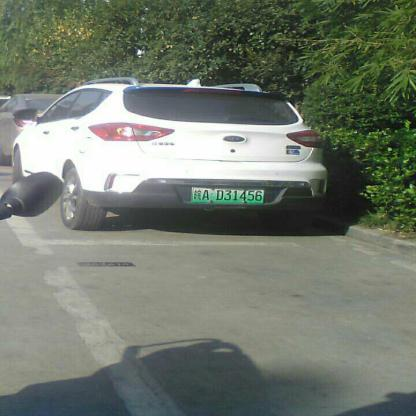lp: (190, 186, 264, 204)
